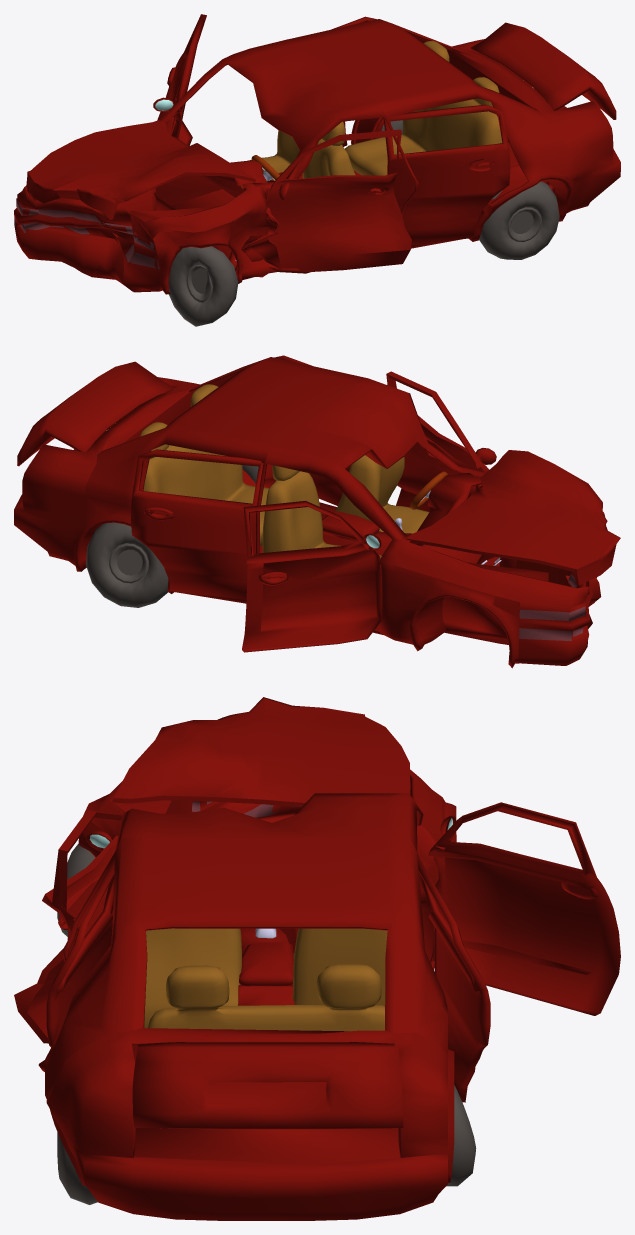
File: 1st car accident_texture.fbx
3 views of the same model, one above another, from view 1: azimuth 30°, elevation 25°; view 2: azimuth 150°, elevation 25°; view 3: azimuth 270°, elevation 25° (orthographic). The views are drawn at different scales.
Parts seen in each view (by area): view 1: Cube.002; view 2: Cube.002; view 3: Cube.002.
Part boxes in pixels (x1,y1,x2,y2): Cube.002: (14,14,620,326); Cube.002: (14,355,620,668); Cube.002: (14,697,620,1220).
Bounding box in the file's own units: 393 × 123 × 253.
